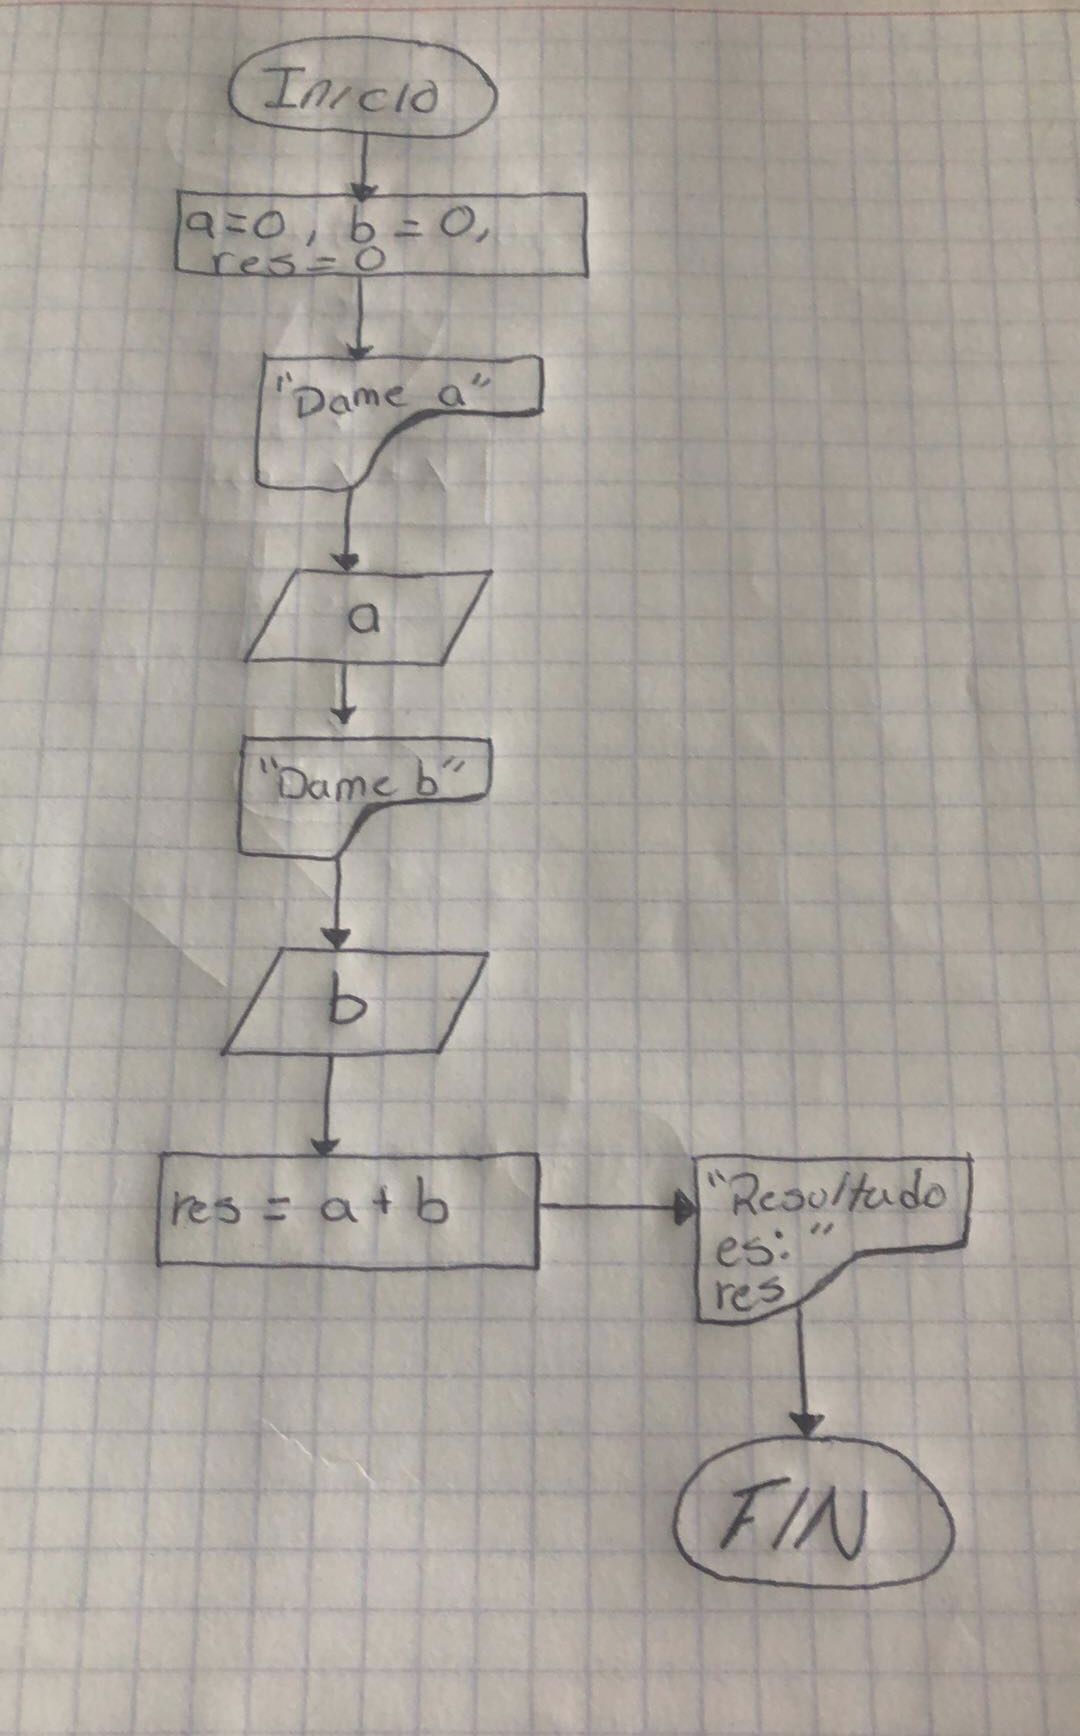arrow_line_down: (780, 1301, 826, 1438), (304, 1052, 342, 1154), (314, 856, 355, 951), (321, 667, 366, 739), (337, 271, 371, 358), (342, 136, 379, 196), (331, 490, 361, 566)
arrow_line_right: (538, 1183, 697, 1227)
print: (686, 1137, 980, 1328), (244, 346, 552, 499), (228, 727, 501, 859)
process: (144, 1140, 550, 1277), (168, 182, 598, 287)
scan: (216, 936, 494, 1066), (238, 561, 504, 673)
start_end: (668, 1433, 961, 1599), (221, 30, 504, 141)
